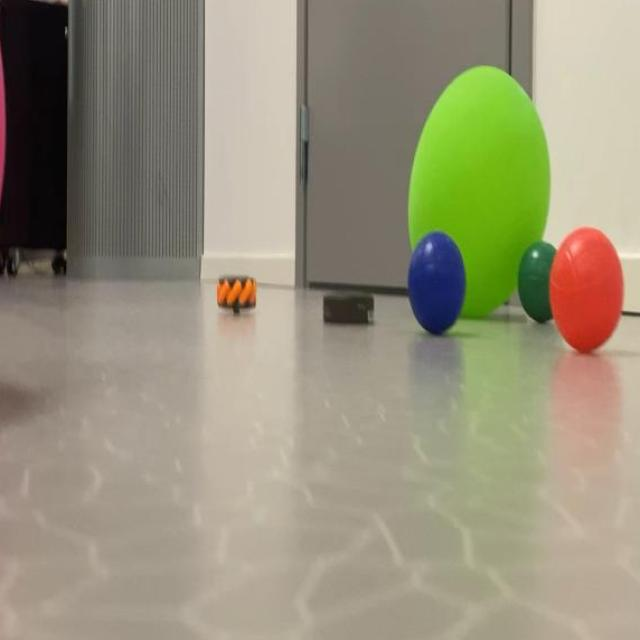blue ball: (407, 243, 457, 323)
green ball: (520, 256, 548, 316)
red ball: (556, 237, 628, 354)
